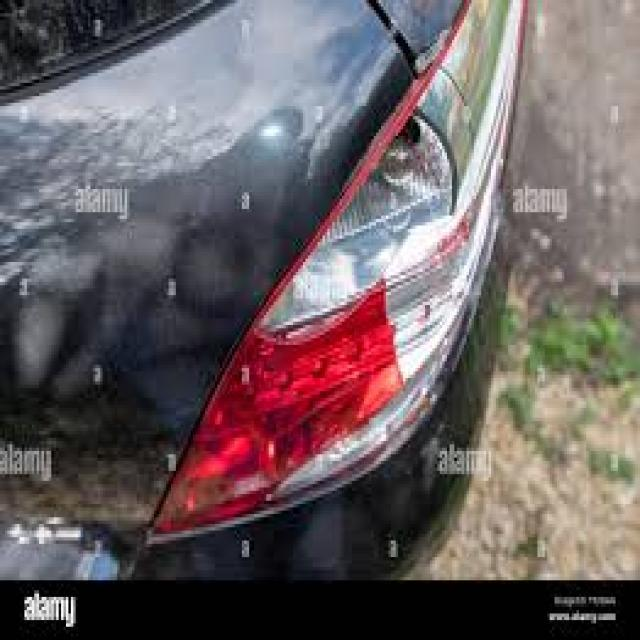damaged-tail-light: (149, 0, 528, 531)
